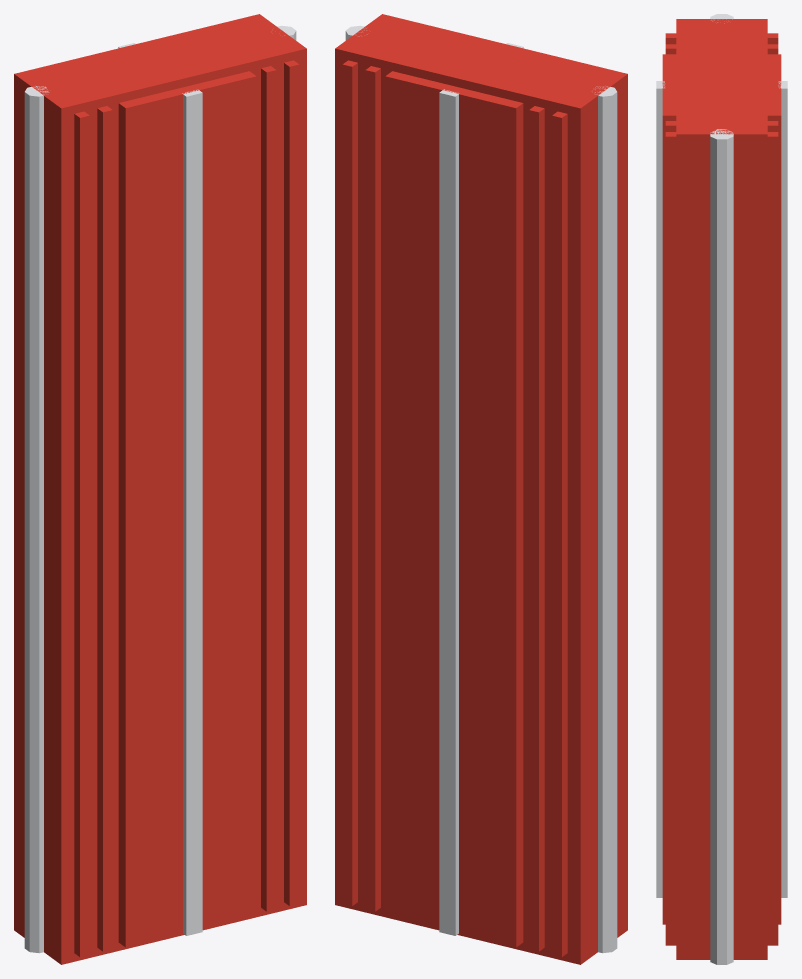
The model's file is pawn_body-ornate.glb.
3 renders of one model, left to right at view 1: azimuth 30°, elevation 25°; view 2: azimuth 150°, elevation 25°; view 3: azimuth 270°, elevation 25°, orthographic. The views are drawn at different scales.
Visible parts, largest first — view 1: pawn_body-ornate; view 2: pawn_body-ornate; view 3: pawn_body-ornate.
Part boxes in pixels (box(x1,y1,x2,y2)): pawn_body-ornate: box(14, 14, 306, 964); pawn_body-ornate: box(335, 14, 627, 964); pawn_body-ornate: box(656, 14, 787, 964).
Bounding box in the file's own units: 0.3259 × 1 × 0.1444.
